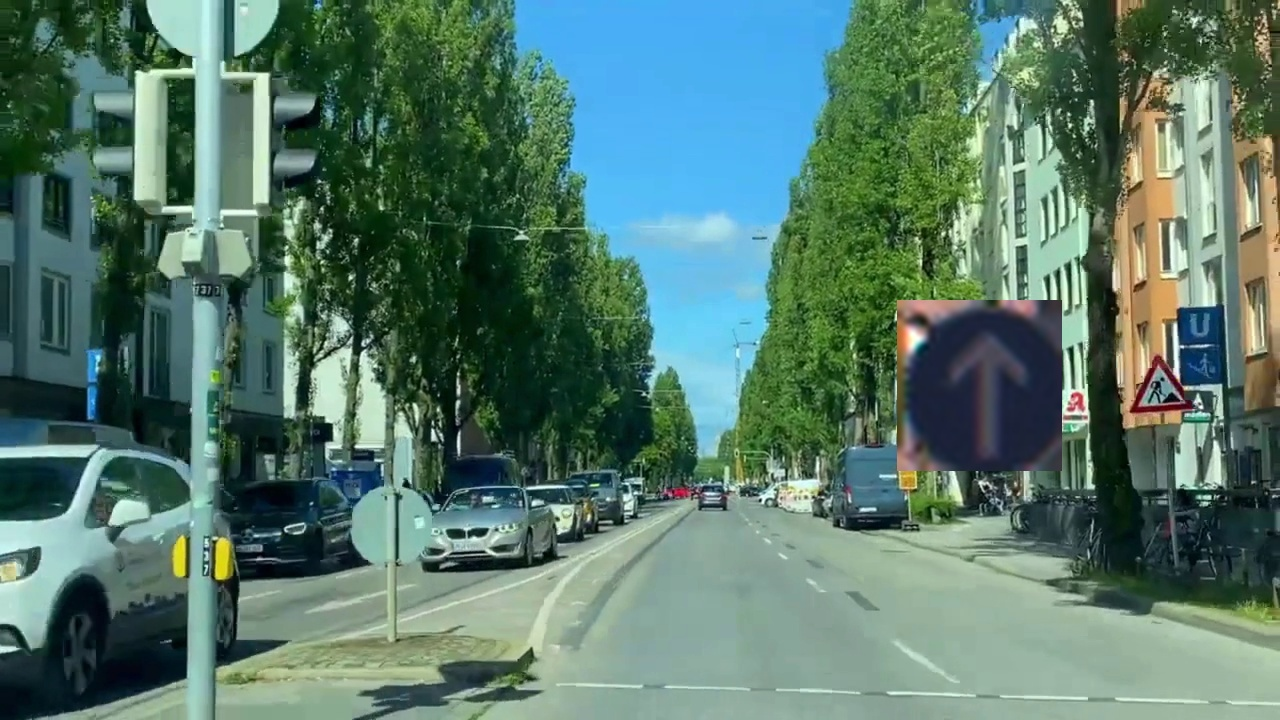Ahead only: (897, 300, 1062, 471)
